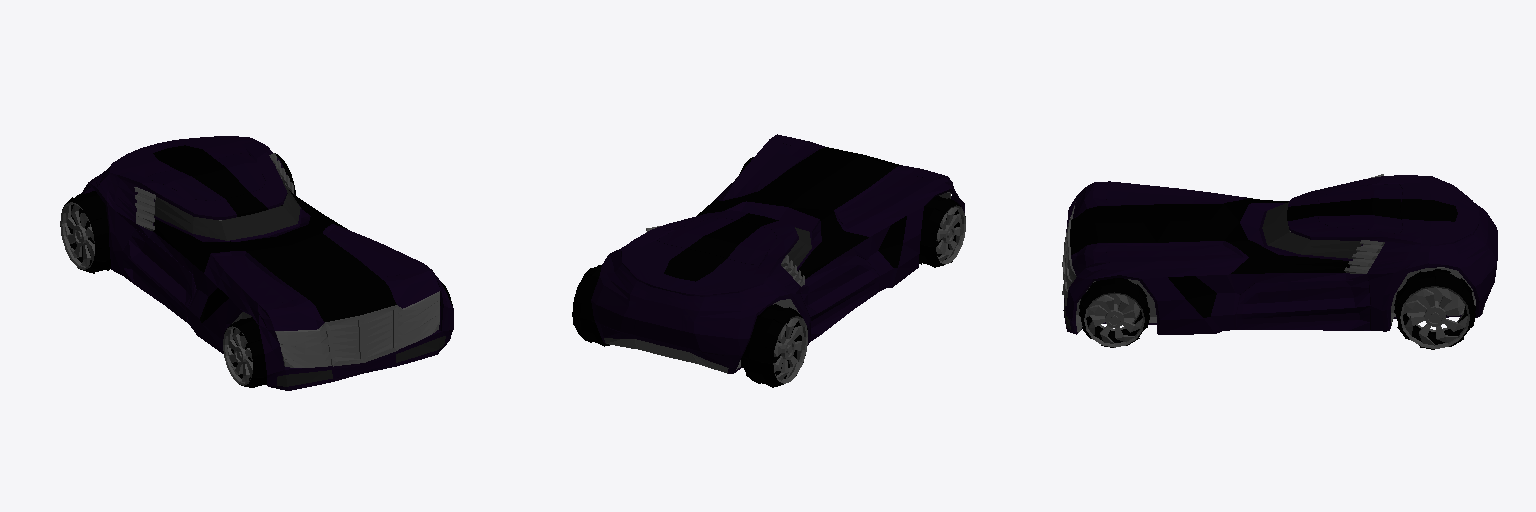
Rendered from reverb.obj.
3 renders of one model, left to right at view 1: azimuth 30°, elevation 25°; view 2: azimuth 150°, elevation 25°; view 3: azimuth 270°, elevation 25°, orthographic.
Parts seen in each view (by area): view 1: Car_SideDoors, Bonet_SideDoors.003, SideDoor.001_SideDoors.006, TopDoor_SideDoors.004, Wheel_Front_Left.002_Cylinder, Wheel_Front_Left.003_Cylinder, BonetFlaps.001_SideDoors.005, BonetFlaps_SideDoors.002; view 2: Car_SideDoors, Bonet_SideDoors.003, Wheel_Front_Left.002_Cylinder, SideDoor.001_SideDoors.006, TopDoor_SideDoors.004, Wheel_Front_Left.003_Cylinder, BonetFlaps.001_SideDoors.005, BonetFlaps_SideDoors.002, Wheel_Front_Left.001_Cylinder; view 3: Car_SideDoors, Bonet_SideDoors.003, SideDoor.002_SideDoors.007, Wheel_Front_Left.001_Cylinder, Wheel_Front_Left_Cylinder, TopDoor_SideDoors.004, BonetFlaps_SideDoors.002, BonetFlaps.001_SideDoors.005.
Boxes of the visible parts, box(x1,y1,x2,y2) form: Car_SideDoors: box(81, 136, 453, 390); Bonet_SideDoors.003: box(203, 216, 440, 330); SideDoor.001_SideDoors.006: box(123, 229, 196, 322); TopDoor_SideDoors.004: box(146, 153, 265, 200); Wheel_Front_Left.002_Cylinder: box(60, 191, 110, 273); Wheel_Front_Left.003_Cylinder: box(223, 317, 266, 387); BonetFlaps.001_SideDoors.005: box(326, 225, 423, 276); BonetFlaps_SideDoors.002: box(212, 255, 298, 303); Car_SideDoors: box(591, 134, 964, 373); Bonet_SideDoors.003: box(716, 135, 942, 240); Wheel_Front_Left.002_Cylinder: box(741, 304, 807, 387); SideDoor.001_SideDoors.006: box(800, 256, 879, 340); TopDoor_SideDoors.004: box(657, 218, 776, 264); Wheel_Front_Left.003_Cylinder: box(919, 196, 965, 267); BonetFlaps.001_SideDoors.005: box(724, 139, 810, 198); BonetFlaps_SideDoors.002: box(837, 172, 933, 228); Wheel_Front_Left.001_Cylinder: box(572, 265, 609, 346); Car_SideDoors: box(1062, 174, 1497, 334); Bonet_SideDoors.003: box(1070, 182, 1277, 275); SideDoor.002_SideDoors.007: box(1237, 280, 1370, 330); Wheel_Front_Left.001_Cylinder: box(1394, 269, 1475, 349); Wheel_Front_Left_Cylinder: box(1079, 278, 1149, 347); TopDoor_SideDoors.004: box(1317, 184, 1402, 233); BonetFlaps_SideDoors.002: box(1106, 181, 1243, 204); BonetFlaps.001_SideDoors.005: box(1106, 245, 1243, 261).
Size of the model in its own units: 5.3 by 2.51 by 9.94.